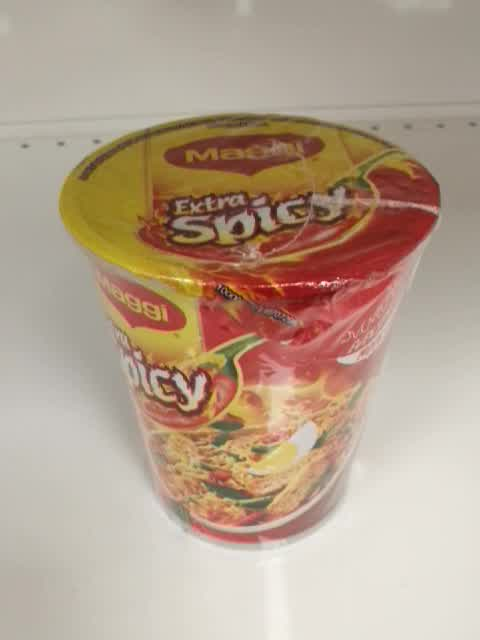maggi: (55, 111, 442, 554)
